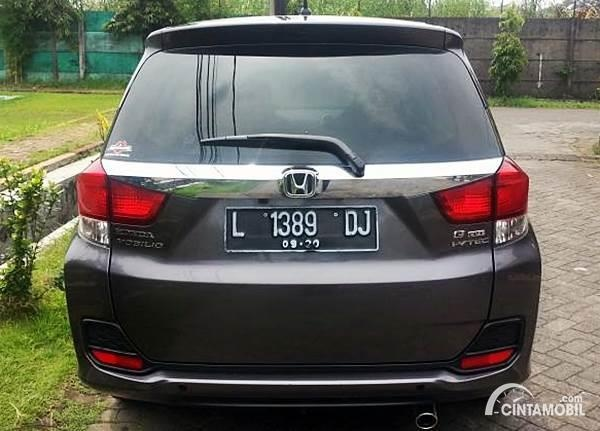plate: (225, 206, 378, 252)
